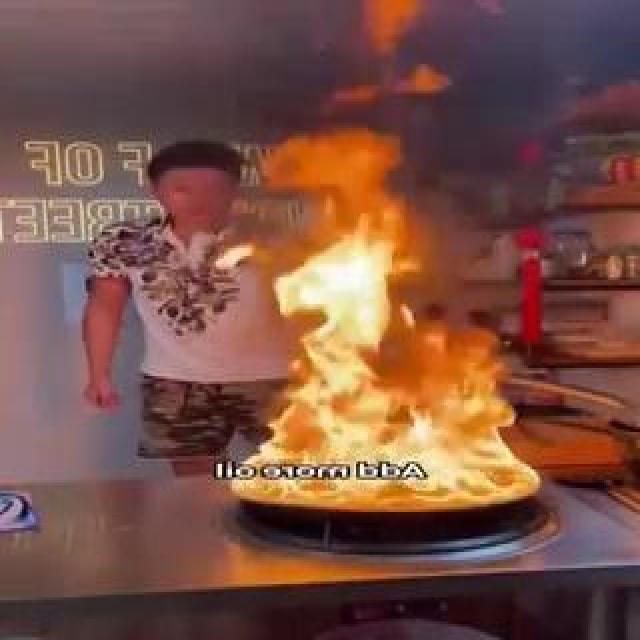Fire: (229, 176, 553, 517)
